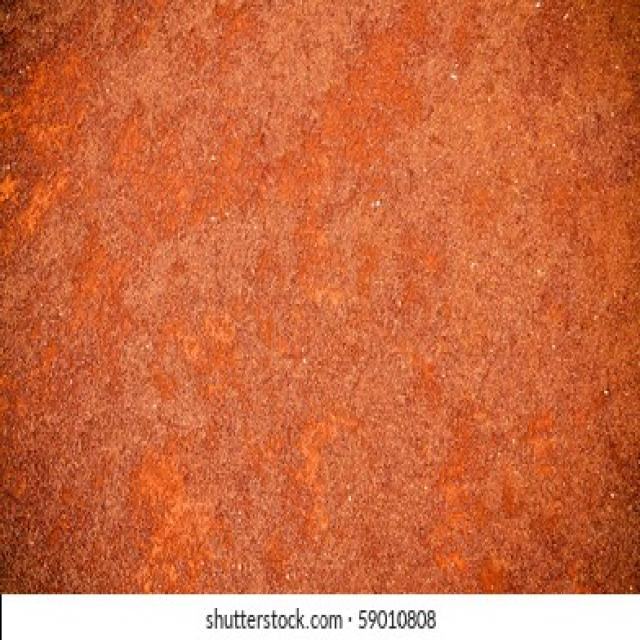Red Soil: (18, 67, 606, 547)
